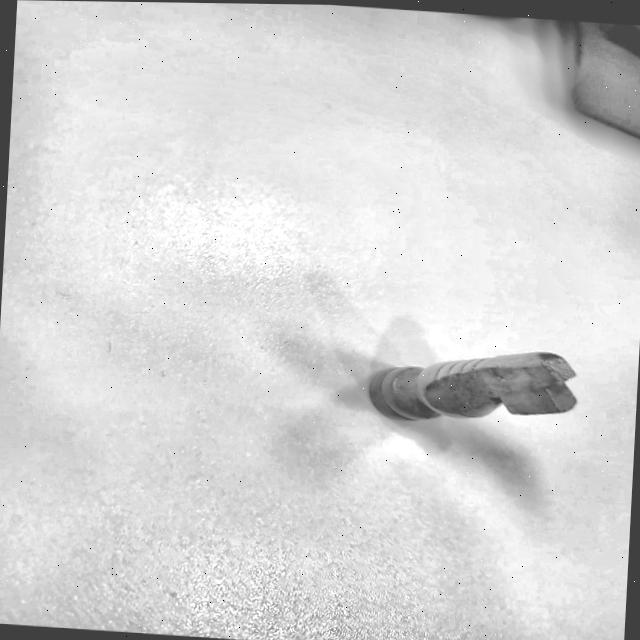black-knight: (349, 333, 592, 441)
